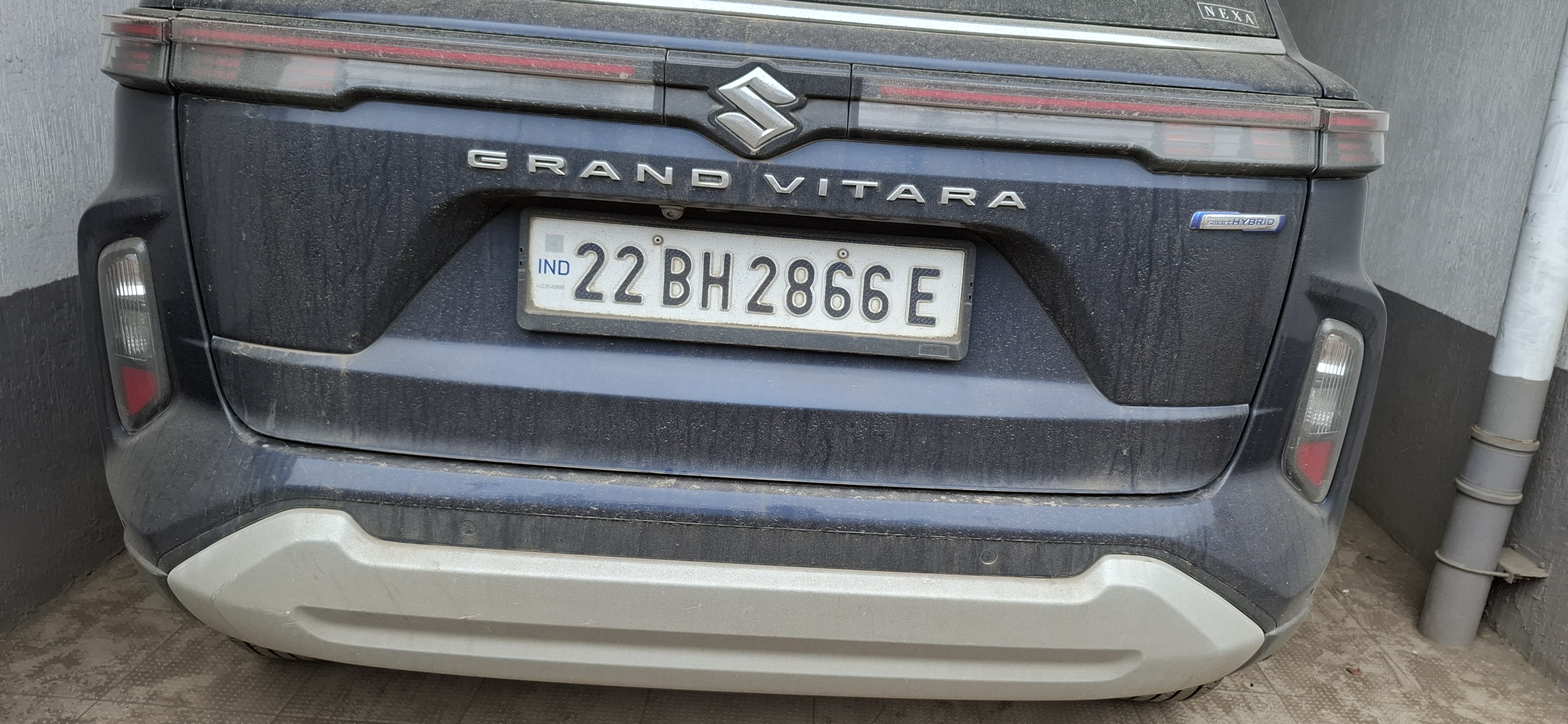license_plate: (74, 10, 1465, 697), (66, 5, 1386, 182)
